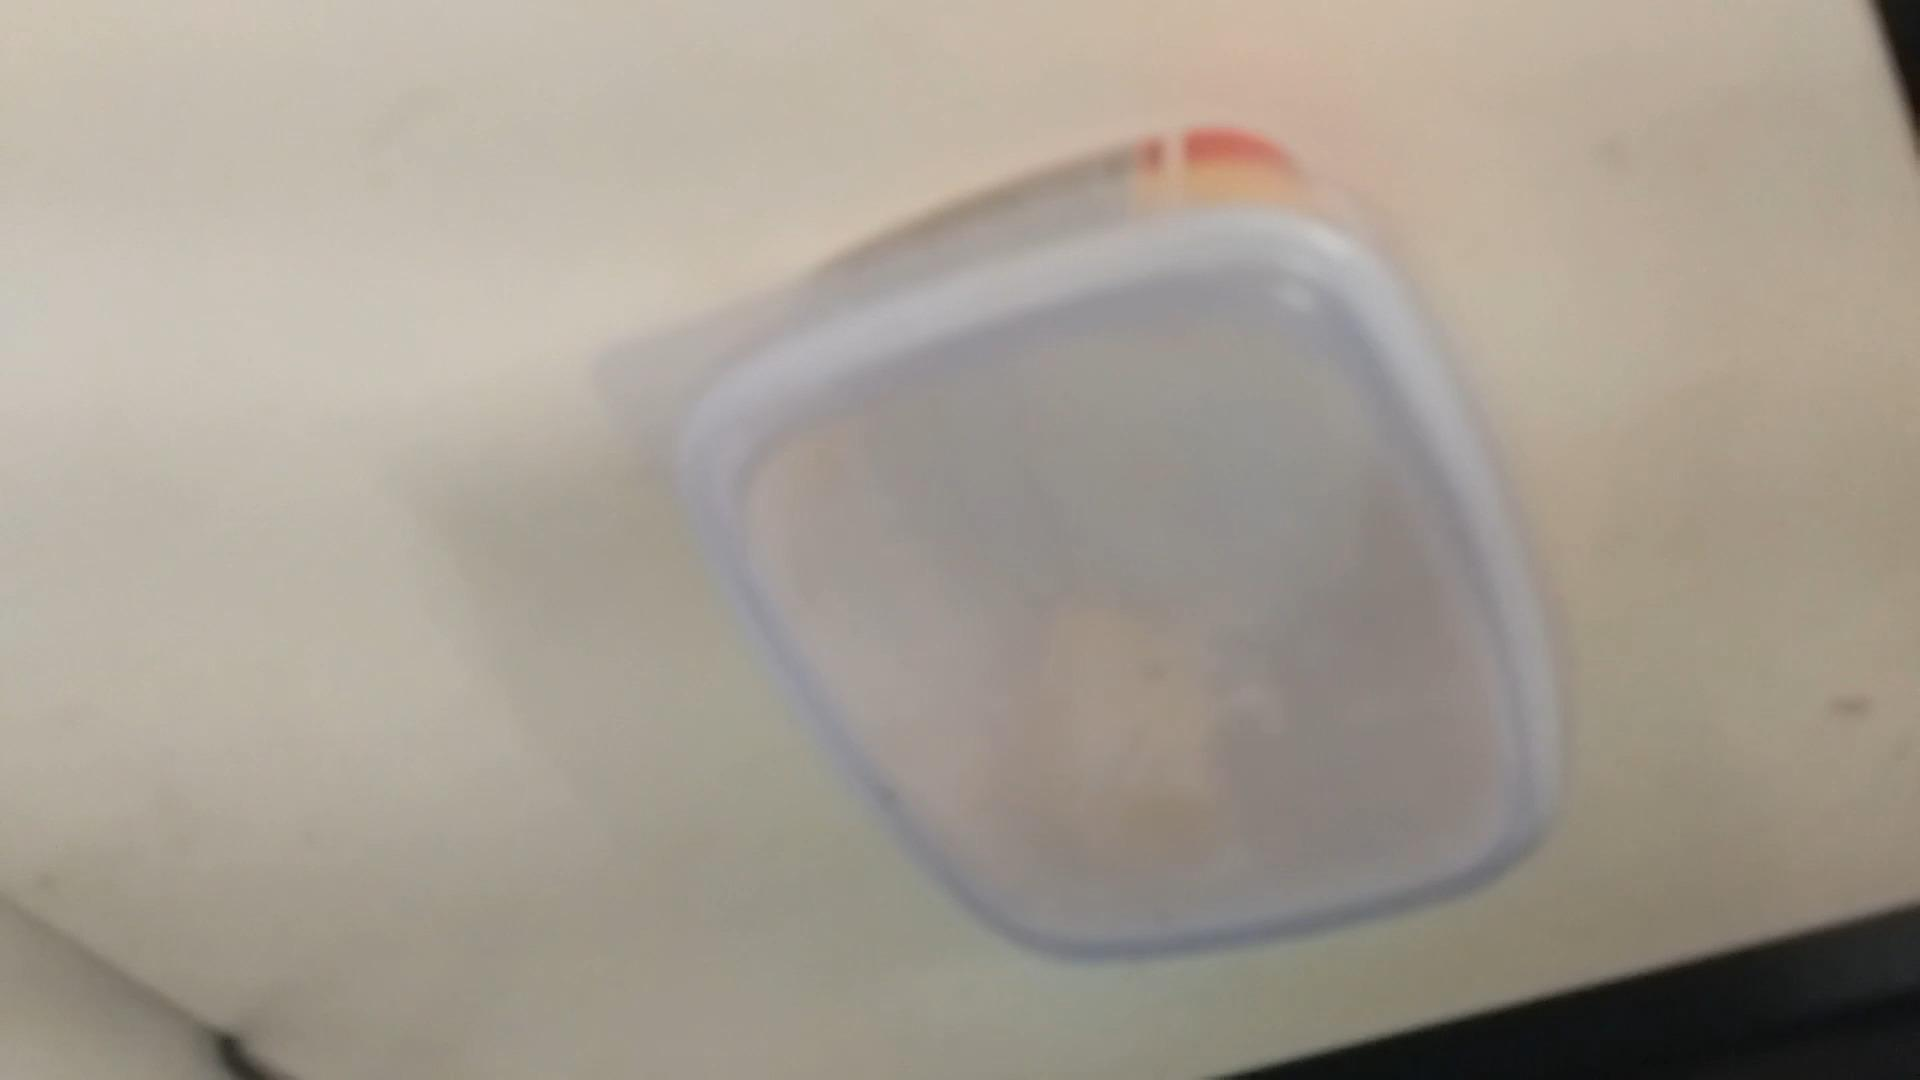butter: (665, 153, 1567, 973)
